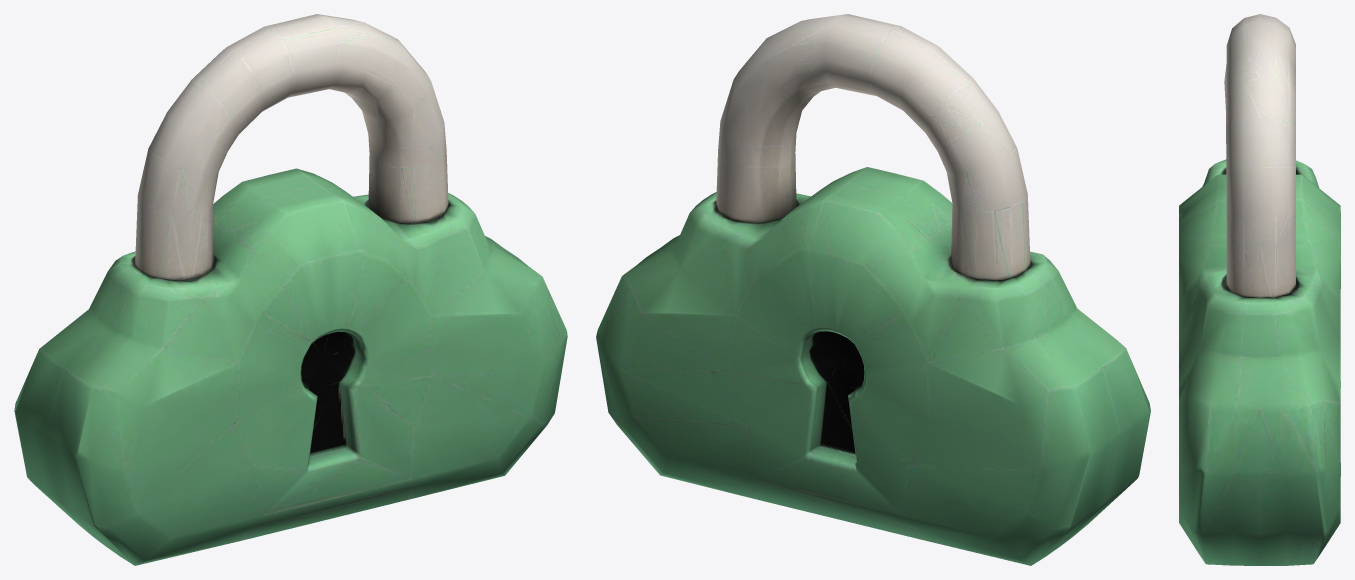
File: lock_05.glb
The picture shows the model from 3 angles, left to right: view 1: azimuth 30°, elevation 25°; view 2: azimuth 150°, elevation 25°; view 3: azimuth 270°, elevation 25°; orthographic projection. The views are drawn at different scales.
Parts seen in each view (by area): view 1: geometry_0; view 2: geometry_0; view 3: geometry_0.
Boxes of the visible parts, x1=… form: geometry_0: x1=14, y1=14, x2=567, y2=565; geometry_0: x1=596, y1=14, x2=1150, y2=565; geometry_0: x1=1179, y1=14, x2=1340, y2=565.
Size of the model in its own units: 0.9575 by 0.8848 by 0.288.
Materials: 1 (1 with a texture image).
